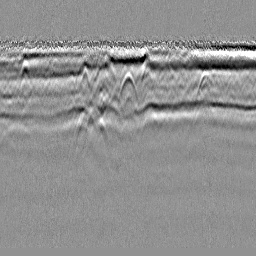cavity: (116, 70, 139, 104)
